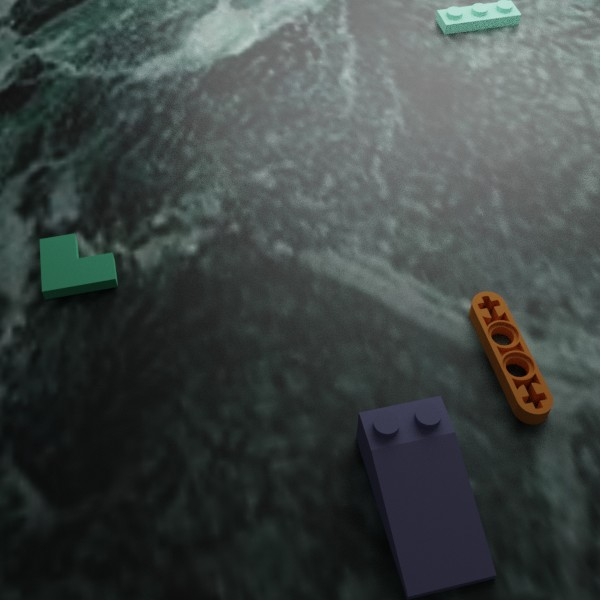lego: (356, 395, 496, 599), (469, 291, 553, 424), (39, 233, 117, 299), (435, 0, 521, 34)
